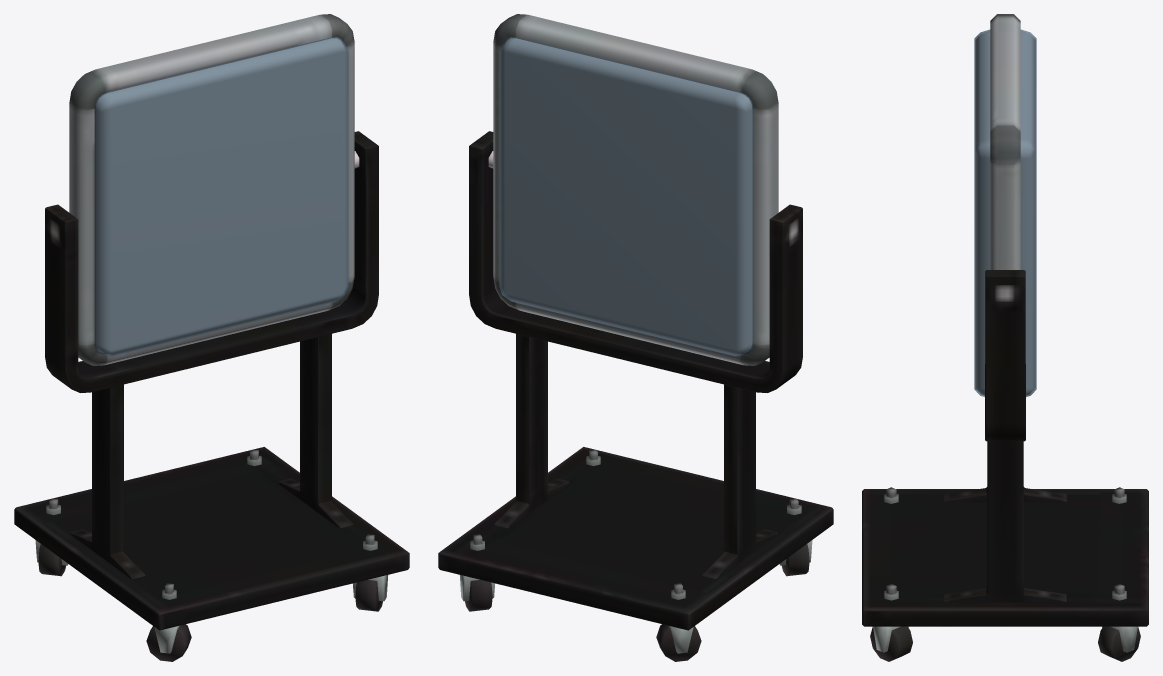
3 views of the same model, side by side, from view 1: azimuth 30°, elevation 25°; view 2: azimuth 150°, elevation 25°; view 3: azimuth 270°, elevation 25° (orthographic).
Bounding box in the file's own units: 8.54 × 14.13 × 6.84.
4 materials, 3 textured.
